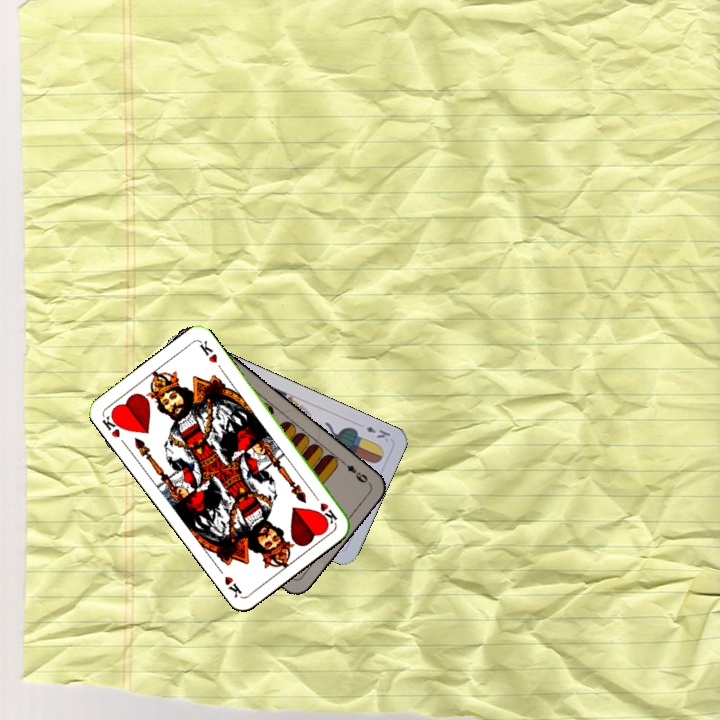E9: (337, 457, 372, 486)
EK: (362, 422, 393, 444)
HK: (309, 490, 340, 527), (98, 408, 127, 440)
